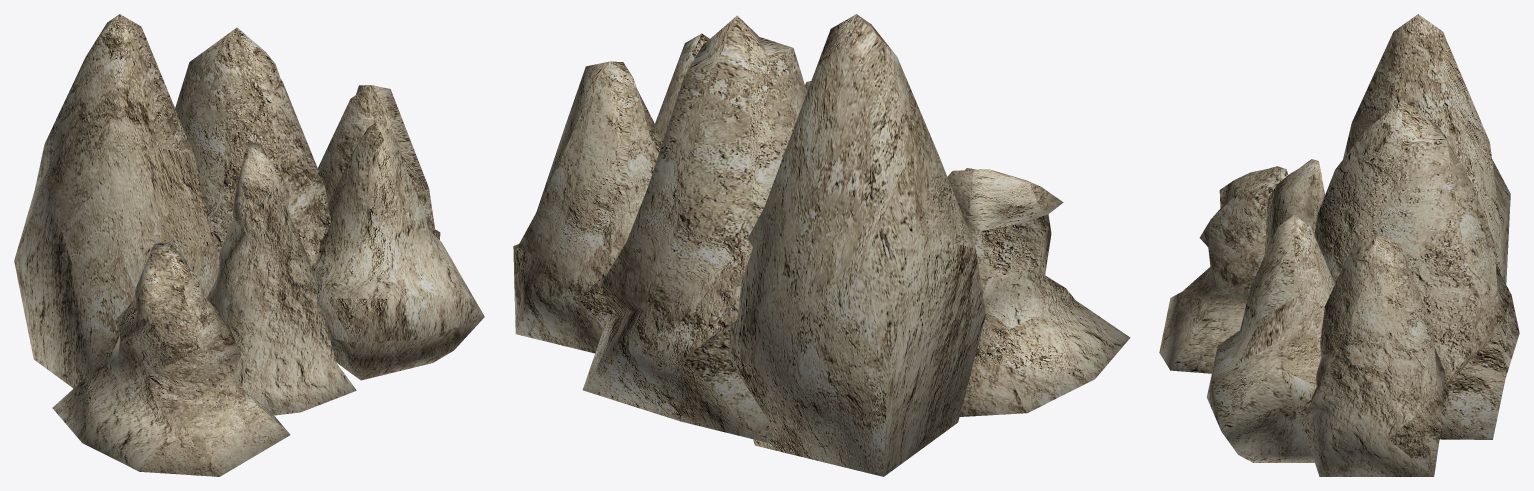
File: rock_stonemine_desert_bl03.glb
3 views of the same model, side by side, from view 1: azimuth 30°, elevation 25°; view 2: azimuth 150°, elevation 25°; view 3: azimuth 270°, elevation 25° (orthographic). The views are drawn at different scales.
Parts seen in each view (by area): view 1: rock_stonemine_desert_bl03; view 2: rock_stonemine_desert_bl03; view 3: rock_stonemine_desert_bl03.
Boxes of the visible parts, bbox=[...] form: rock_stonemine_desert_bl03: bbox=[14, 14, 484, 476]; rock_stonemine_desert_bl03: bbox=[513, 14, 1130, 476]; rock_stonemine_desert_bl03: bbox=[1159, 14, 1519, 476].
Size of the model in its own units: 17.29 by 14.12 by 12.89.
1 material, 1 textured.
